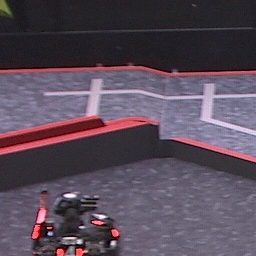Red: (55, 244, 83, 256), (90, 211, 109, 226)
Robot: (28, 186, 118, 256)
